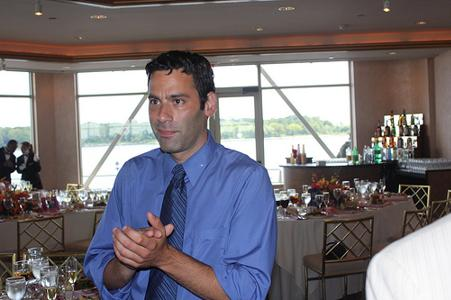person: (84, 50, 278, 300)
